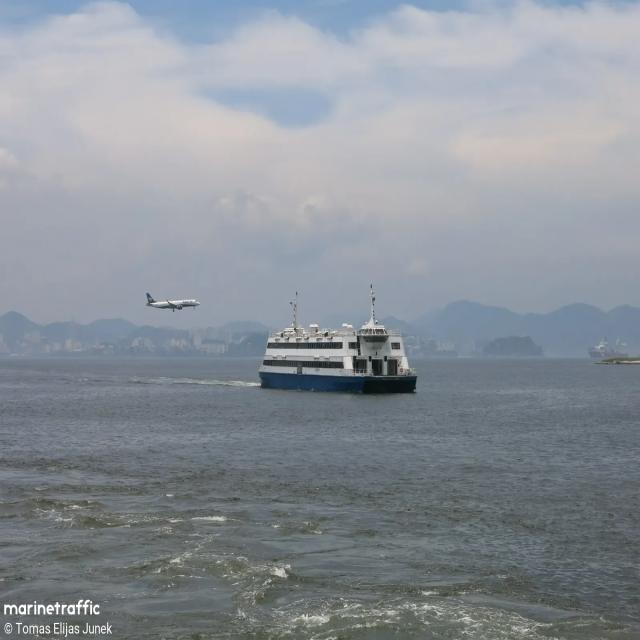Passenger: (259, 286, 416, 393)
